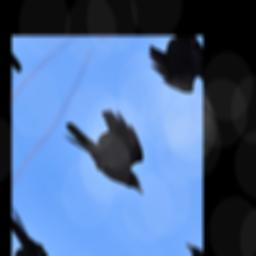Crow: (59, 83, 165, 213)
